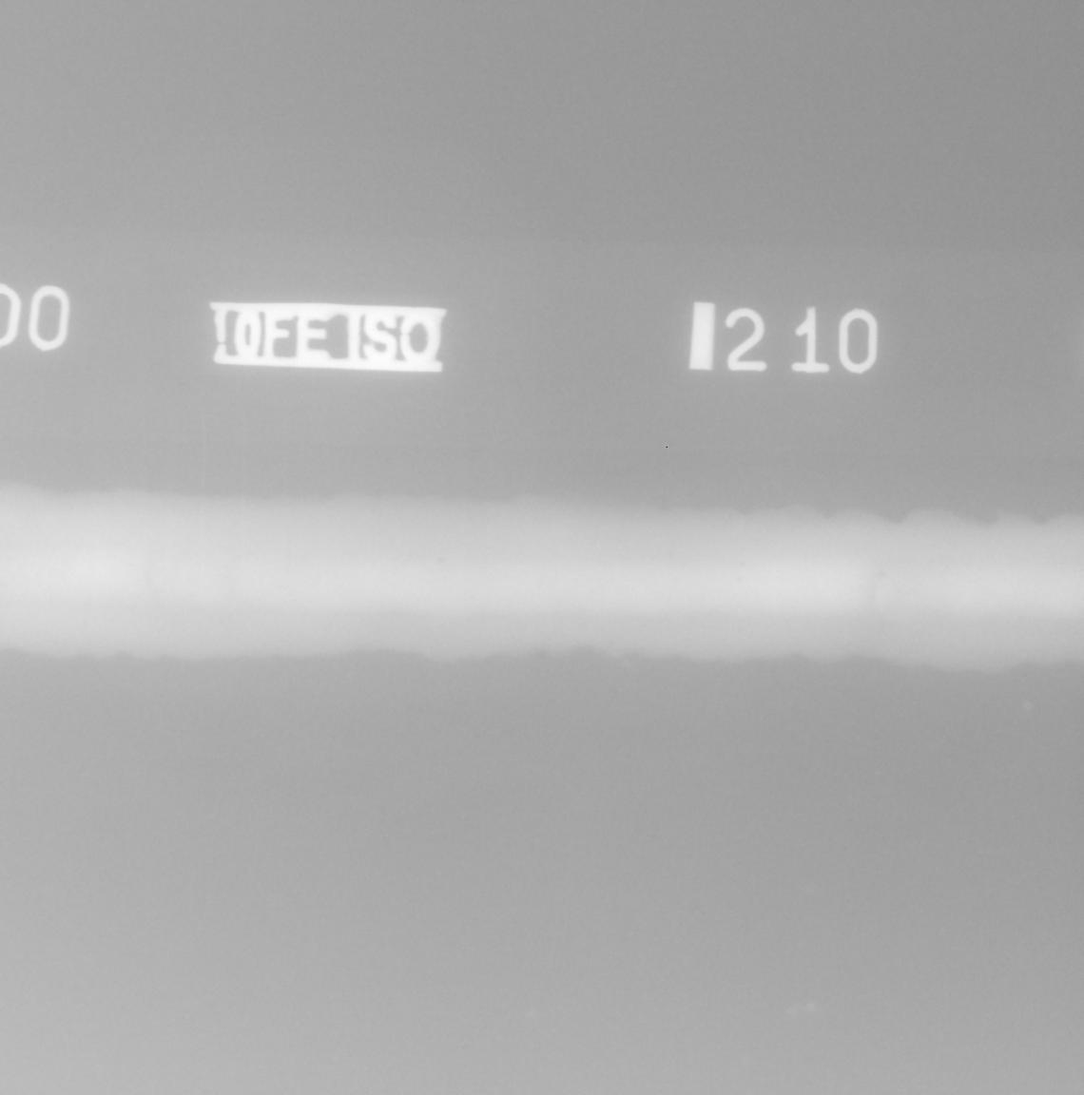Pore/Porosity: (878, 571, 886, 579), (437, 559, 445, 564), (740, 562, 745, 567), (736, 578, 740, 583), (668, 553, 673, 556)
